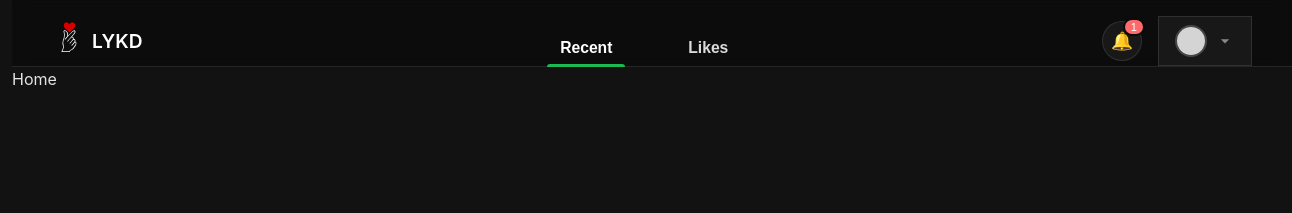
Test: Friendship UI › shows bell when there are pending friend requests and hides after accept
Expected: the text "1" is shown, [1123, 18, 1145, 36]
Note: Open dropdown
What coordinates should you click on to do the following:
click the button named "friend requests"
I would click on:
 (1122, 41)
Its box is [1102, 21, 1142, 61].
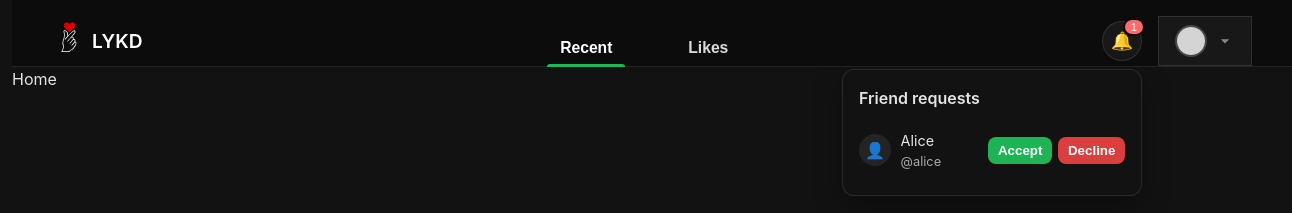
Expected: the text "Alice" is shown, [901, 132, 934, 149]
What coordinates should you click on to do the following:
click the button "Accept"
I would click on:
 (1020, 150)
Its box is [988, 136, 1052, 164].
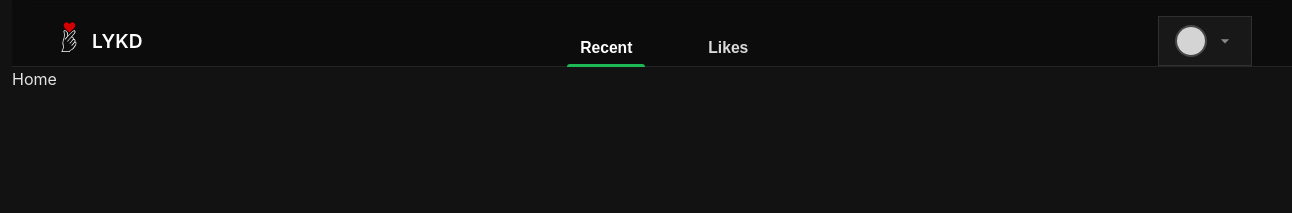
Expected: the text "Friend requests" is gone
